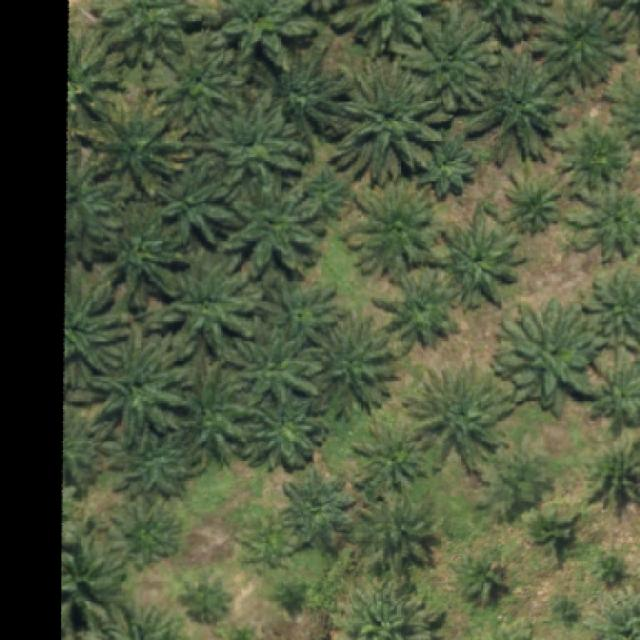Kelapa_Sawit: (329, 54, 454, 180), (88, 318, 197, 449), (493, 297, 609, 418), (147, 246, 265, 362), (76, 86, 195, 197), (82, 197, 189, 318), (246, 36, 356, 152), (402, 364, 516, 471), (195, 100, 310, 202), (462, 44, 560, 162), (220, 170, 325, 279), (405, 0, 503, 114), (433, 203, 529, 315), (337, 176, 441, 279), (312, 311, 399, 420), (170, 359, 259, 463), (531, 0, 626, 91), (371, 268, 467, 358), (160, 38, 246, 128), (230, 321, 322, 404), (157, 162, 245, 246), (473, 430, 552, 522), (110, 421, 202, 496), (97, 489, 183, 569), (353, 495, 435, 577), (278, 467, 358, 548), (350, 415, 433, 487), (258, 276, 338, 346), (248, 402, 328, 471), (560, 119, 634, 193), (235, 507, 310, 573), (499, 160, 561, 235), (413, 134, 478, 201), (526, 501, 583, 568), (452, 550, 510, 608), (176, 567, 236, 618), (309, 164, 356, 218), (592, 538, 636, 588), (546, 596, 582, 630)
